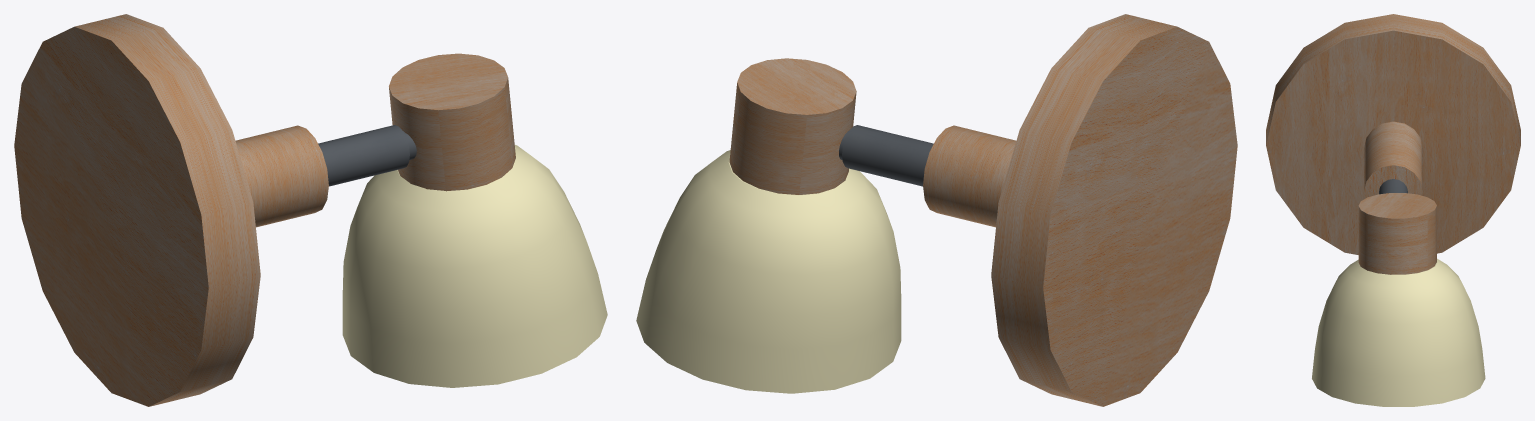
Rendered from Lampara de pared.fbx.
3 renders of one model, left to right at view 1: azimuth 30°, elevation 25°; view 2: azimuth 150°, elevation 25°; view 3: azimuth 270°, elevation 25°, orthographic. The views are drawn at different scales.
Parts seen in each view (by area): view 1: Cylinder, Cylinder.002, Cylinder.001; view 2: Cylinder, Cylinder.002, Cylinder.001; view 3: Cylinder, Cylinder.002, Cylinder.001.
Part boxes in pixels (box(x1,y1,x2,y2)): Cylinder: box(14, 14, 416, 406); Cylinder.002: box(342, 145, 607, 387); Cylinder.001: box(389, 53, 515, 191); Cylinder: box(839, 14, 1237, 406); Cylinder.002: box(636, 150, 901, 393); Cylinder.001: box(729, 58, 856, 194); Cylinder: box(1266, 14, 1520, 254); Cylinder.002: box(1312, 258, 1485, 406); Cylinder.001: box(1358, 193, 1436, 274).
Size of the model in its own units: 61.76 by 47.26 by 42.84.
3 materials, 2 textured.
